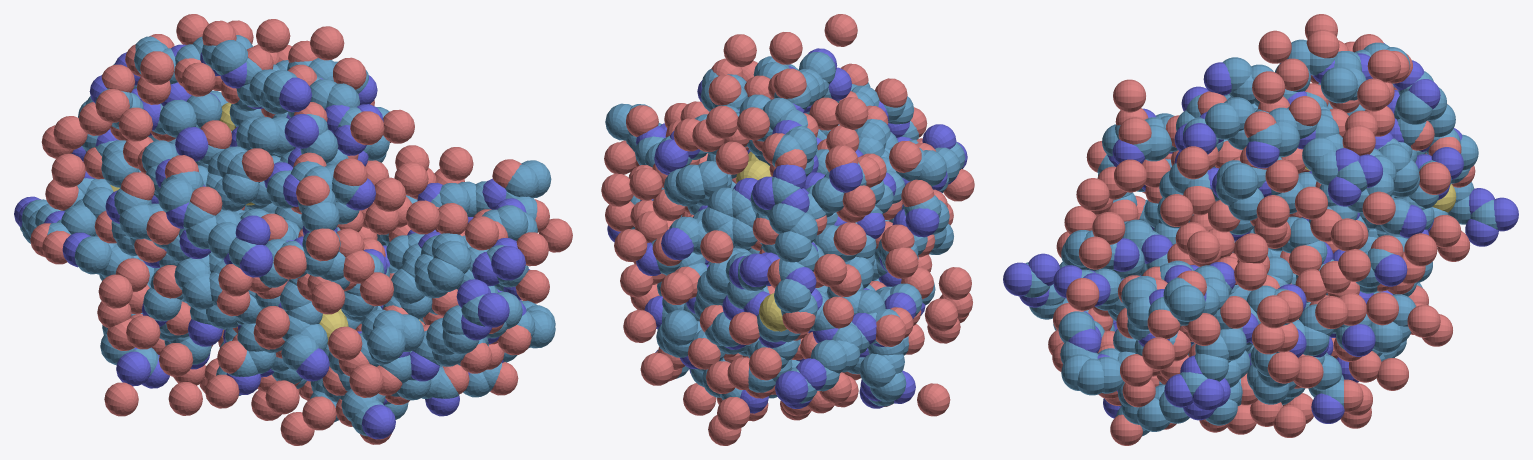
Rendered from 1lyz__spheres__default.glb.
The picture shows the model from 3 angles, left to right: view 1: azimuth 30°, elevation 25°; view 2: azimuth 150°, elevation 25°; view 3: azimuth 270°, elevation 25°; orthographic projection. The views are drawn at different scales.
Visible parts, largest first — view 1: Renderer Node; view 2: Renderer Node; view 3: Renderer Node.
Part boxes in pixels (<box>): Renderer Node: <box>14,14,572,445</box>; Renderer Node: <box>601,14,974,445</box>; Renderer Node: <box>1003,14,1518,445</box>.
Size of the model in its own units: 42.59 by 40.17 by 47.23.
